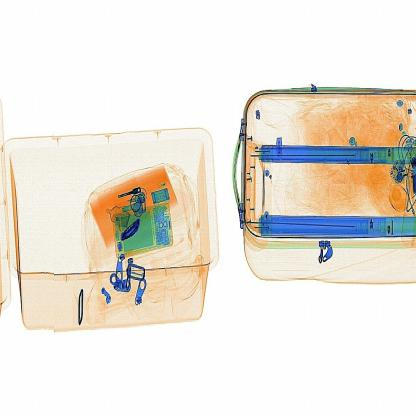knife: (118, 216, 151, 248)
